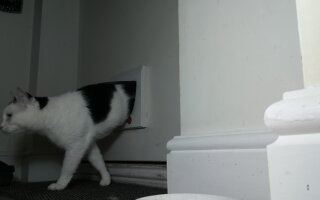bad: (2, 81, 144, 193)
